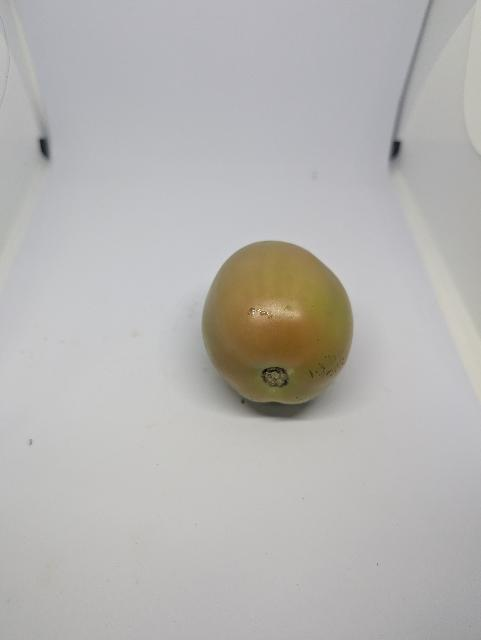breaker: (188, 228, 365, 414)
